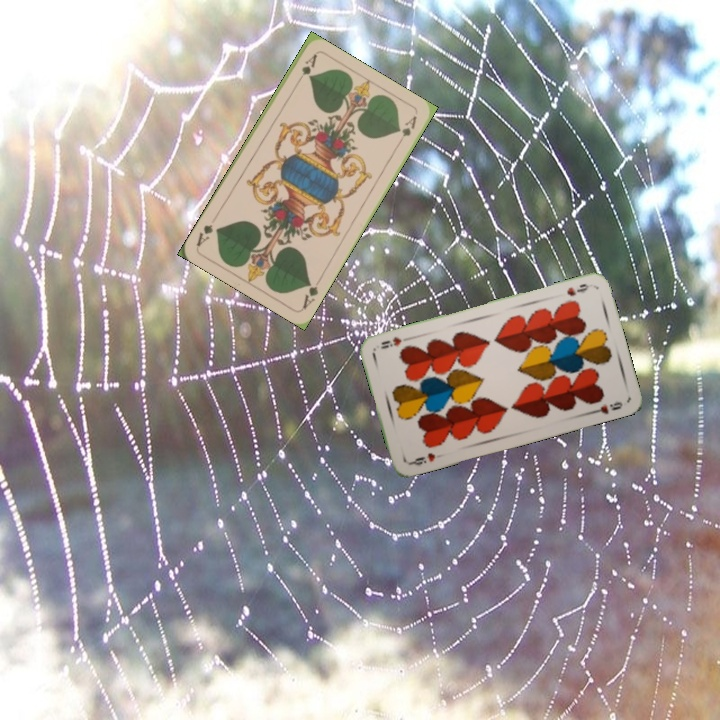GA: (292, 50, 320, 87), (298, 274, 324, 312)
H9: (406, 449, 438, 468), (563, 280, 591, 299)
